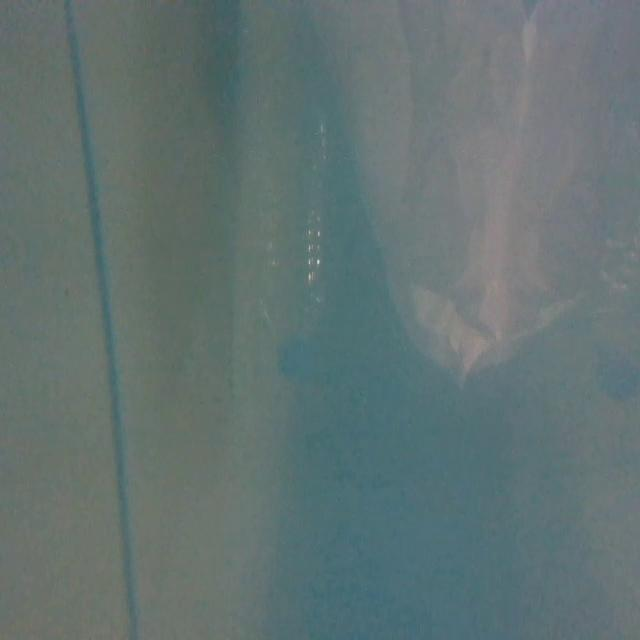plastic bags: (348, 0, 638, 387)
plastic bottle: (252, 110, 333, 380)
